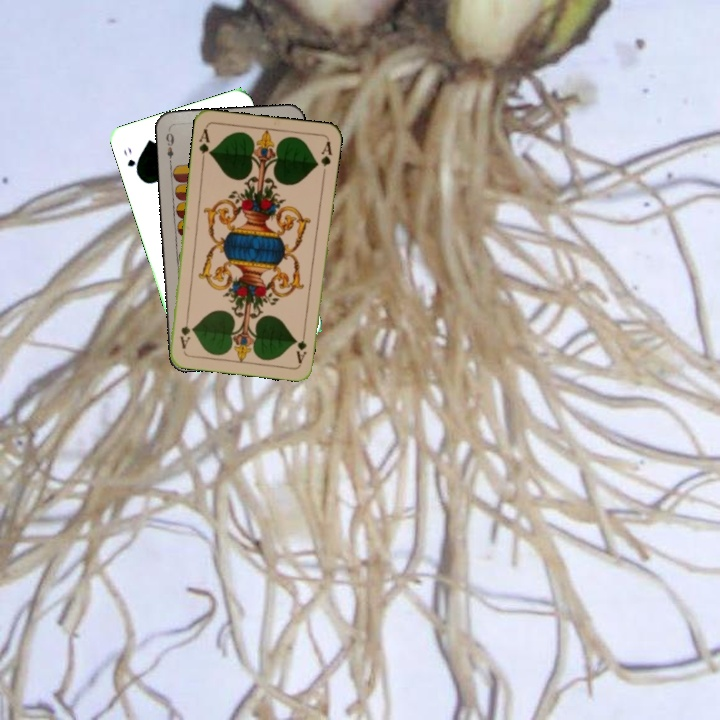E9: (161, 126, 177, 167)
GA: (195, 125, 214, 165), (292, 325, 309, 365)
GO: (119, 143, 141, 179)
